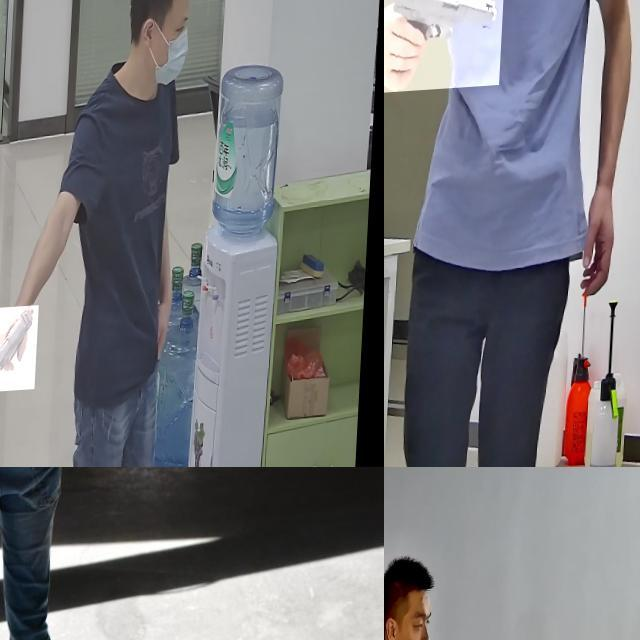-: (0, 467, 31, 525)
gun-knife-thesis - v11 Yolov5 augmented: (384, 0, 506, 95), (0, 309, 42, 396)
